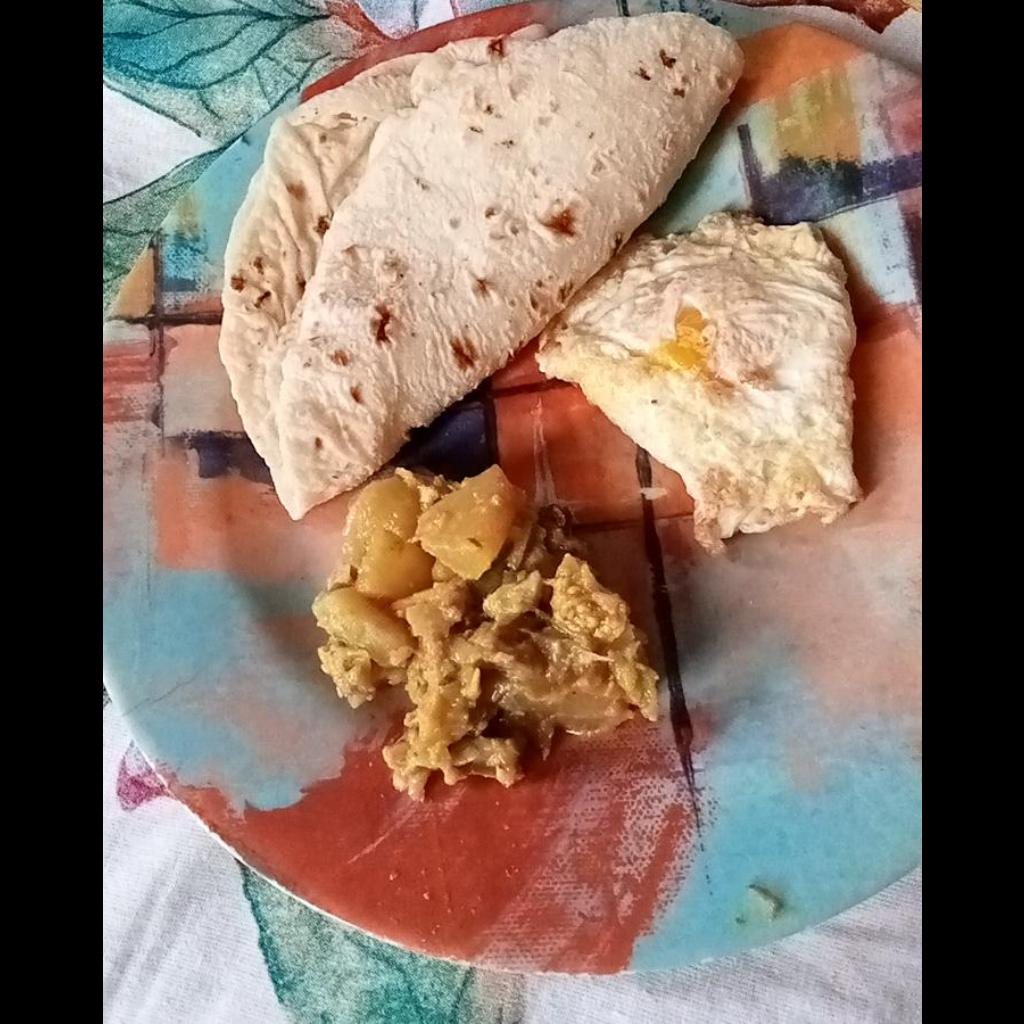chicken: (315, 465, 660, 805)
egg-poached: (530, 217, 867, 552)
ruti: (218, 15, 754, 518)
